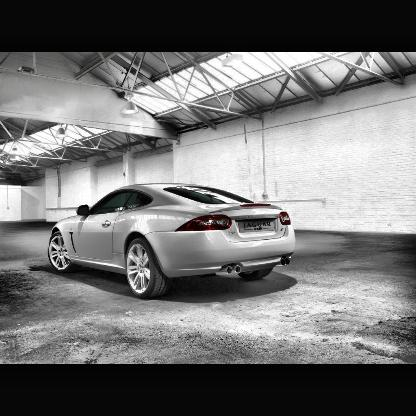Jaguar XK XKR 2012: (48, 185, 298, 297)
